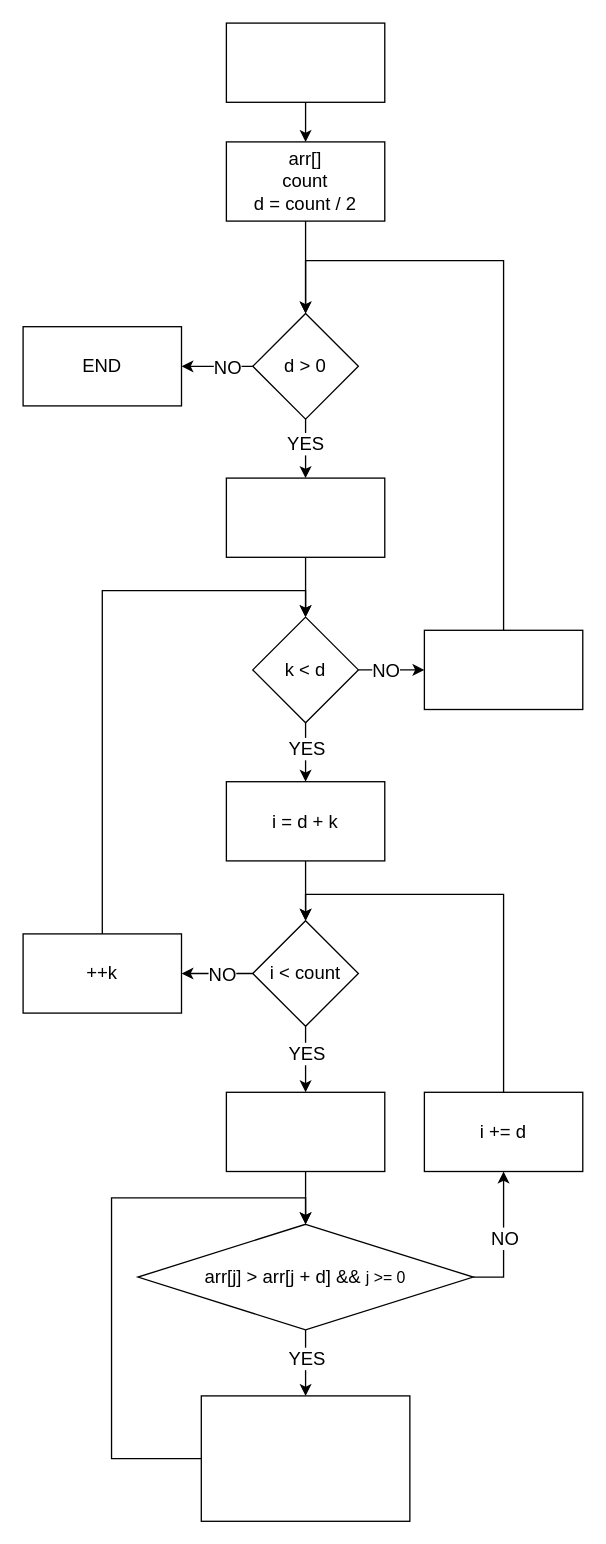
Image size: 606x1544. Some labels were removed from this diagram. The shapes that lost their labels are listed below. From the top down, each one's box as (x1, y1, x2, y2) in pixels, then its label:
(225, 22, 385, 102): START
(225, 477, 385, 557): k = 0
(423, 629, 583, 710): d = d / 2
(225, 1091, 385, 1172): j = i - d
(200, 1395, 410, 1521): tmp = arr[j] arr[j] = arr[j + d] arr[j + d] = tmp j -= d
